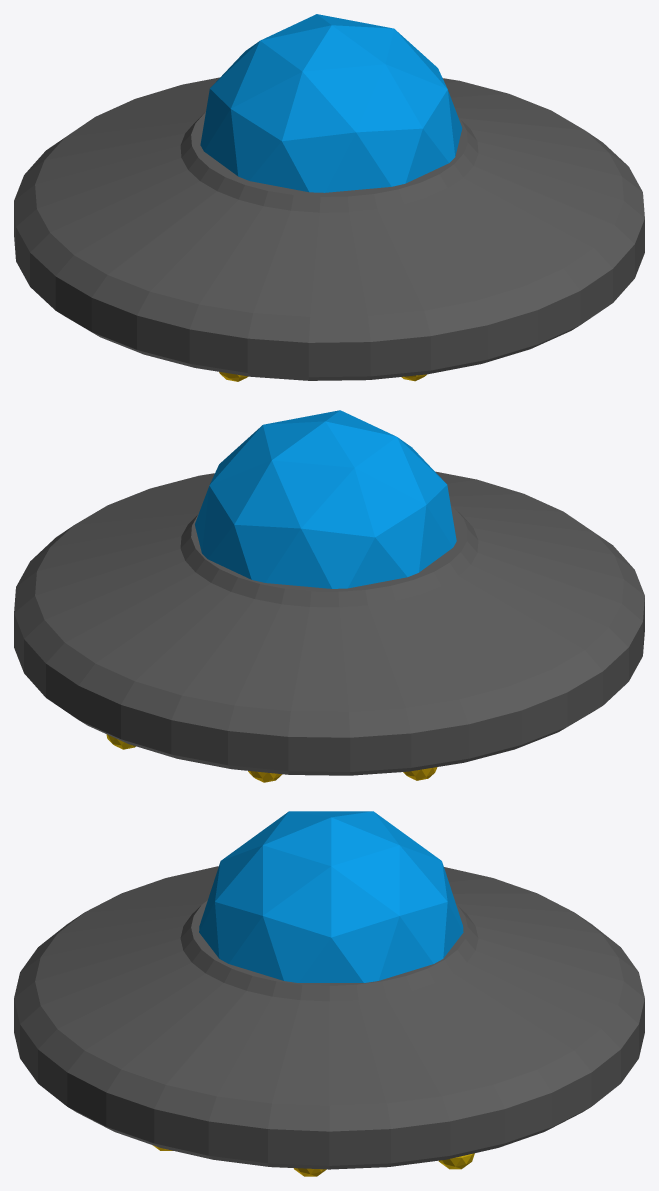
File: ufo.fbx
3 renders of one model, top to bottom at view 1: azimuth 30°, elevation 25°; view 2: azimuth 150°, elevation 25°; view 3: azimuth 270°, elevation 25°, orthographic.
Visible parts, largest first — view 1: spodek, kapsula; view 2: spodek, kapsula, Icosphere.009; view 3: spodek, kapsula, Icosphere.009.
Boxes of the visible parts, bbox=[...] form: spodek: bbox=[14, 77, 644, 380]; kapsula: bbox=[200, 14, 462, 192]; spodek: bbox=[14, 471, 644, 775]; kapsula: bbox=[195, 410, 456, 588]; Icosphere.009: bbox=[106, 734, 437, 782]; spodek: bbox=[14, 866, 644, 1169]; kapsula: bbox=[199, 811, 463, 982]; Icosphere.009: bbox=[152, 1145, 474, 1176].
Size of the model in its own units: 200 by 94.92 by 200.
